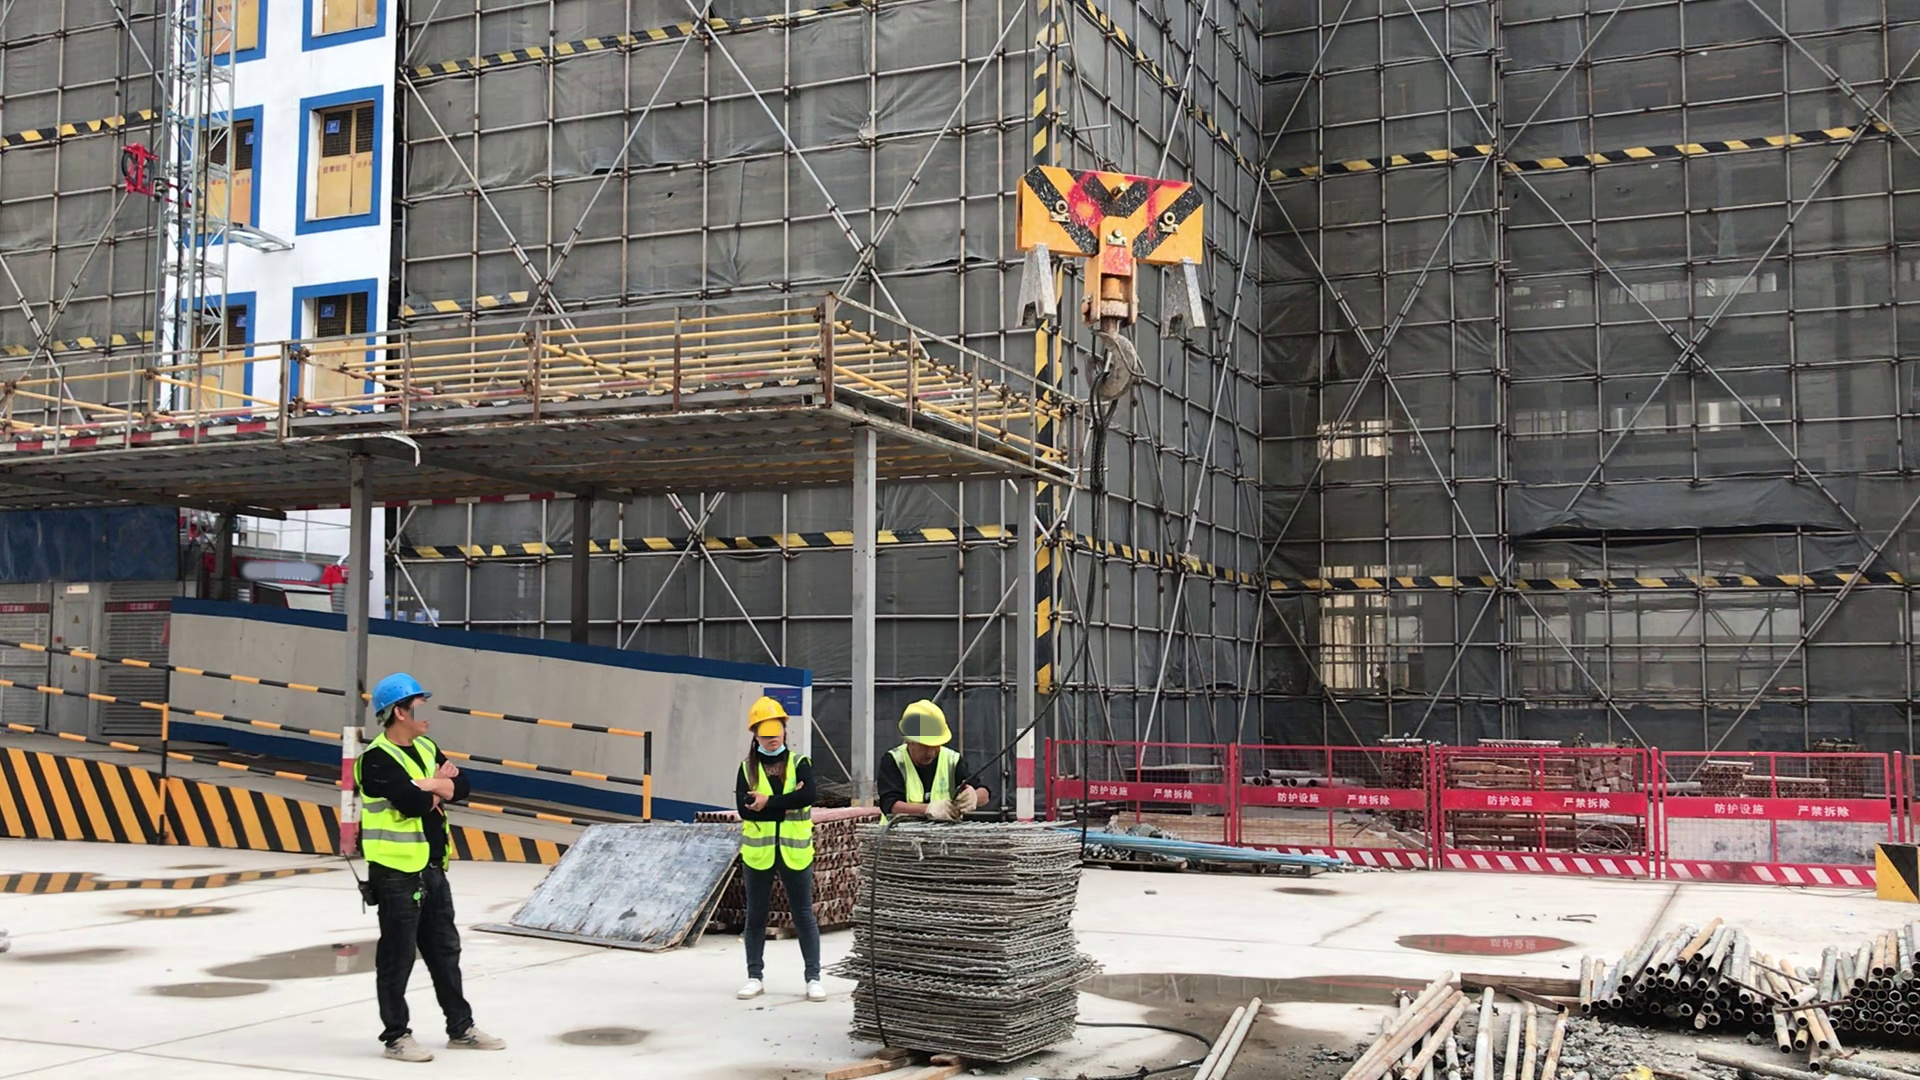fence: (1329, 735, 1871, 889), (11, 628, 328, 794), (1100, 732, 1326, 839), (456, 698, 651, 817)
helmet: (371, 668, 437, 723), (897, 700, 956, 752), (745, 695, 792, 728)
hook: (1021, 156, 1197, 401)
person: (358, 672, 512, 1064), (725, 693, 836, 1006), (878, 695, 995, 819)
scaffold: (1573, 917, 1830, 1057), (1833, 909, 1920, 1053)
slogan: (127, 601, 157, 610), (1, 604, 26, 615)
vest: (352, 737, 456, 876), (737, 752, 819, 878), (873, 745, 971, 819)
